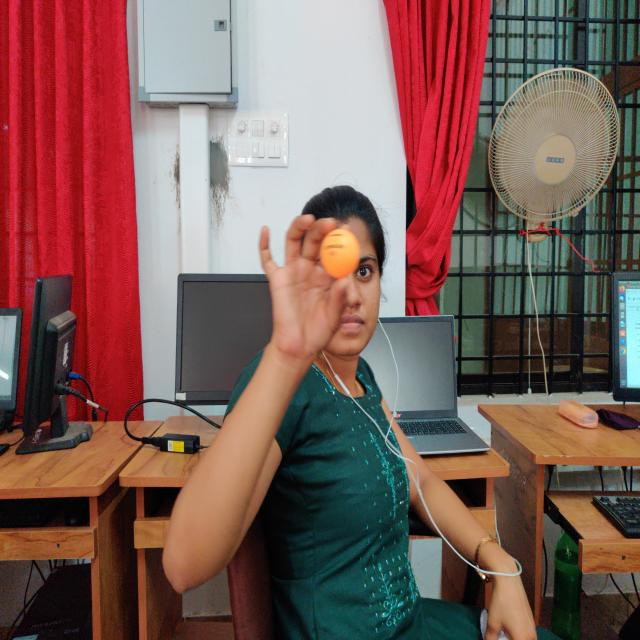orange: (320, 229, 358, 278)
